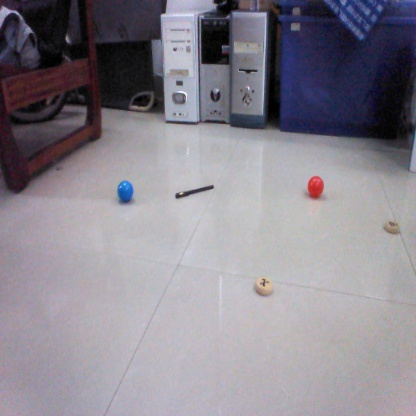ball: (115, 179, 136, 200), (307, 175, 325, 195)
chess: (252, 276, 274, 294), (384, 217, 403, 233)
pen: (174, 179, 217, 197)
